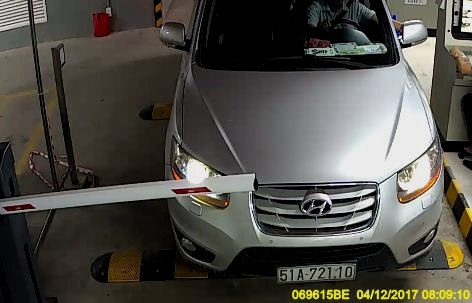plate: (276, 260, 354, 284)
